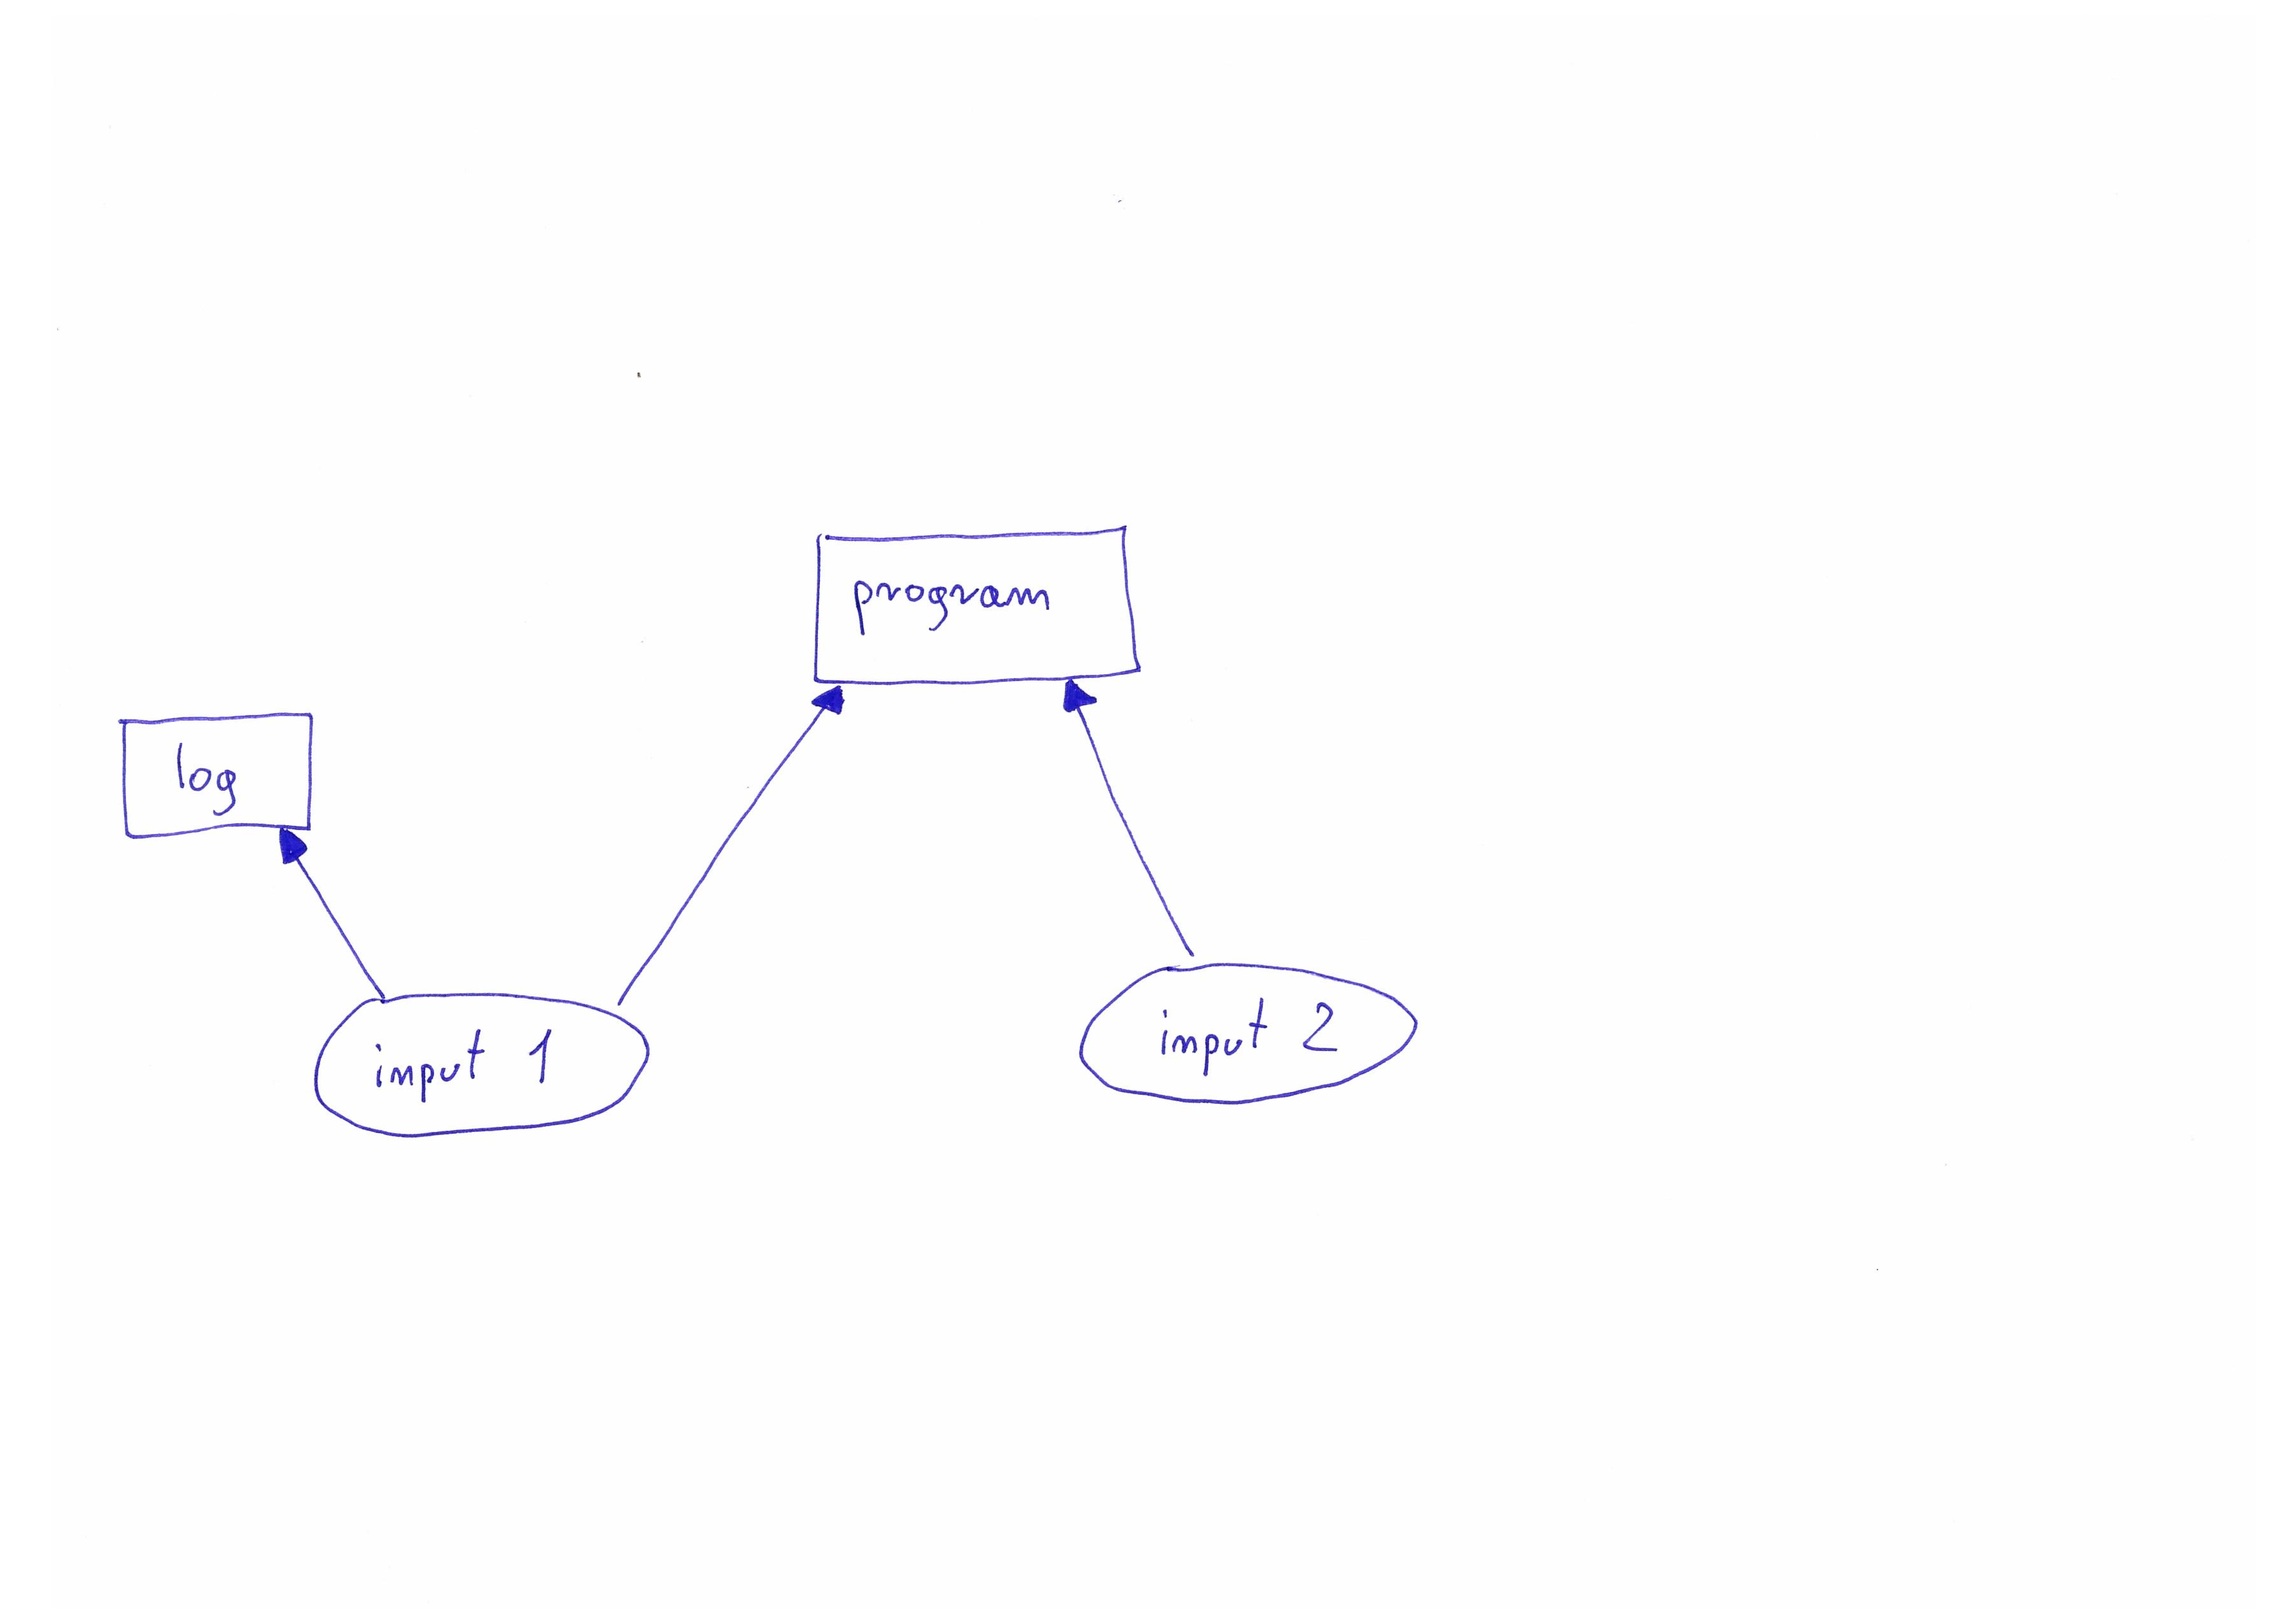arrow_information_requirement: (597, 685, 859, 1011), (1046, 678, 1218, 963), (258, 824, 397, 1000)
node_decision: (808, 527, 1144, 685), (112, 710, 316, 831)
node_input_data: (1074, 961, 1427, 1113), (309, 995, 657, 1148)
text: (835, 557, 1068, 647), (358, 1019, 571, 1114), (1144, 991, 1351, 1079), (158, 735, 248, 823)
